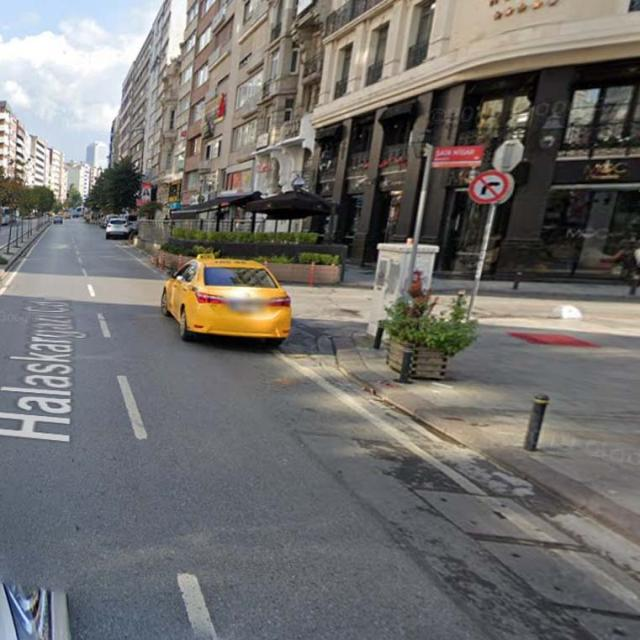sagadonulmez: (470, 170, 506, 204)
